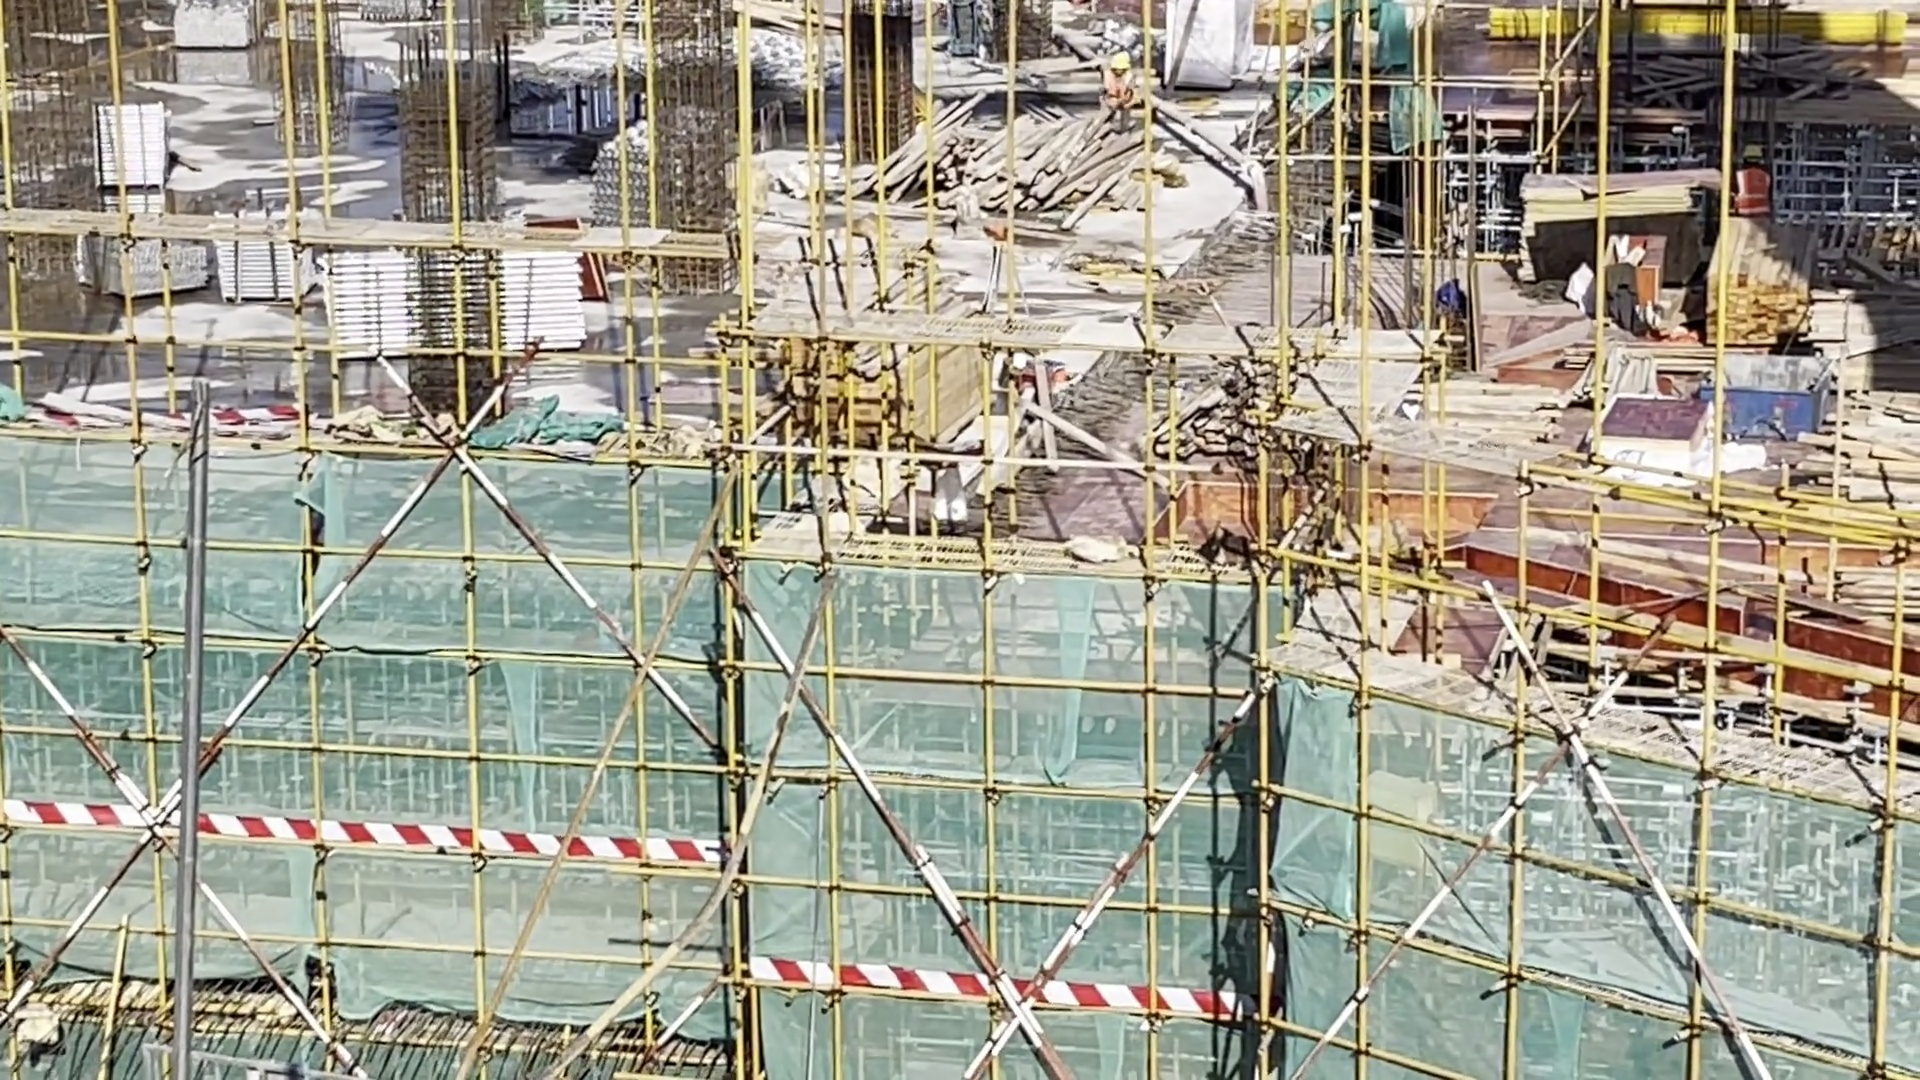helmet: (1098, 43, 1138, 92), (1002, 352, 1031, 383)
hopper: (1700, 356, 1822, 455)
person: (1000, 349, 1075, 411), (1096, 48, 1139, 132)
scaffold: (333, 238, 597, 357), (203, 198, 338, 339)
wood: (761, 333, 977, 452), (866, 119, 1106, 224), (1695, 202, 1815, 359)
